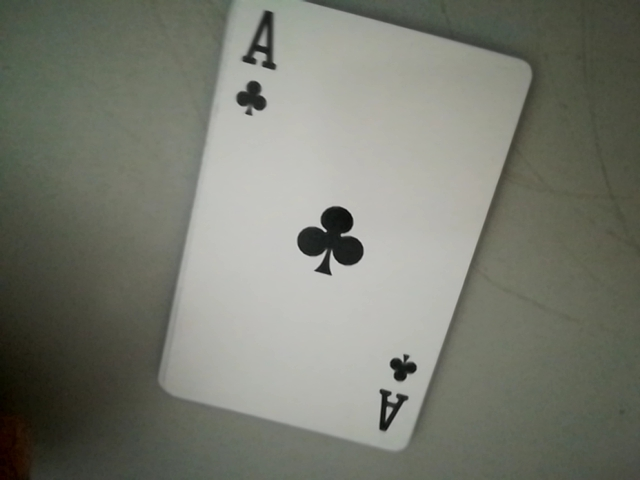mh a: (220, 4, 286, 127), (374, 347, 425, 444)
